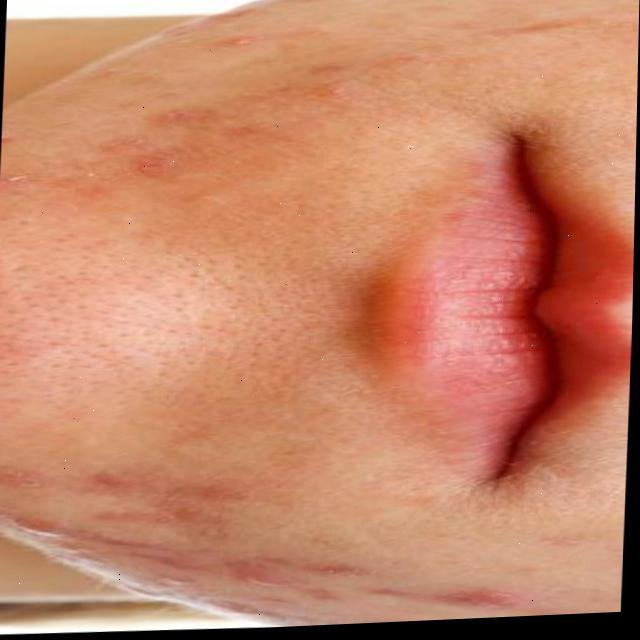Acne: (74, 439, 512, 636), (29, 0, 410, 186)
